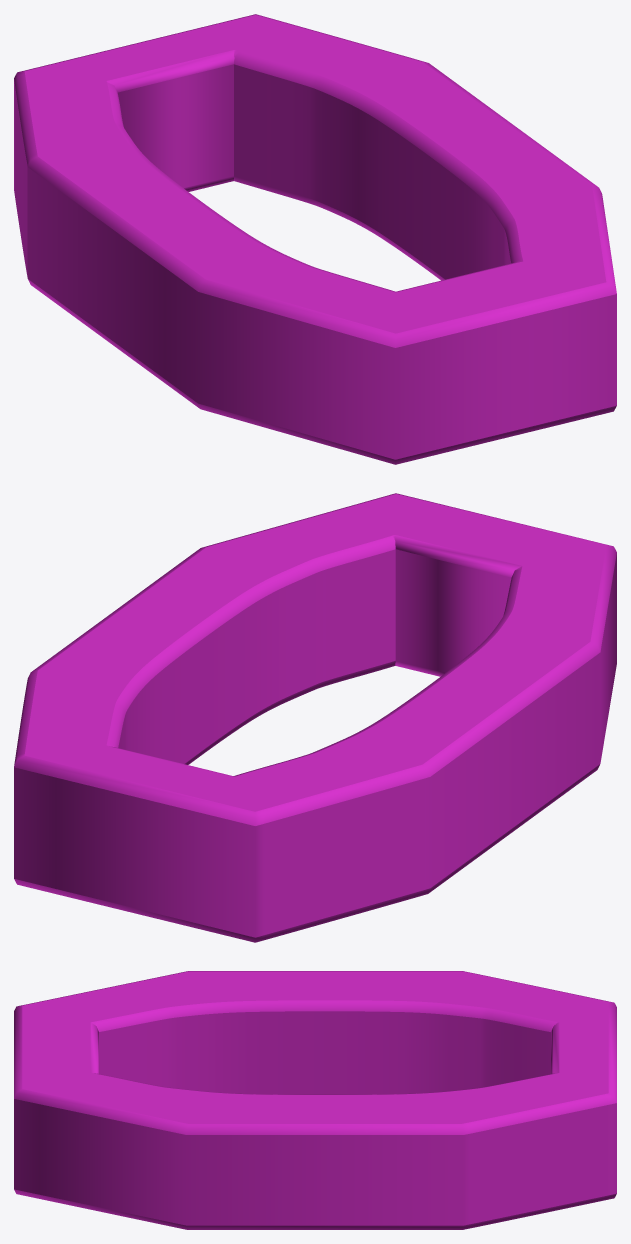
File: Number_0_CoolFont.fbx
3 views of the same model, one above another, from view 1: azimuth 30°, elevation 25°; view 2: azimuth 150°, elevation 25°; view 3: azimuth 270°, elevation 25° (orthographic). The views are drawn at different scales.
Visible parts, largest first — view 1: Number_0; view 2: Number_0; view 3: Number_0.
Part boxes in pixels (x1=…): Number_0: x1=14, y1=14, x2=616, y2=464; Number_0: x1=14, y1=493, x2=616, y2=942; Number_0: x1=14, y1=971, x2=616, y2=1229.
Size of the model in its own units: 0.4536 by 0.14 by 0.7241.
